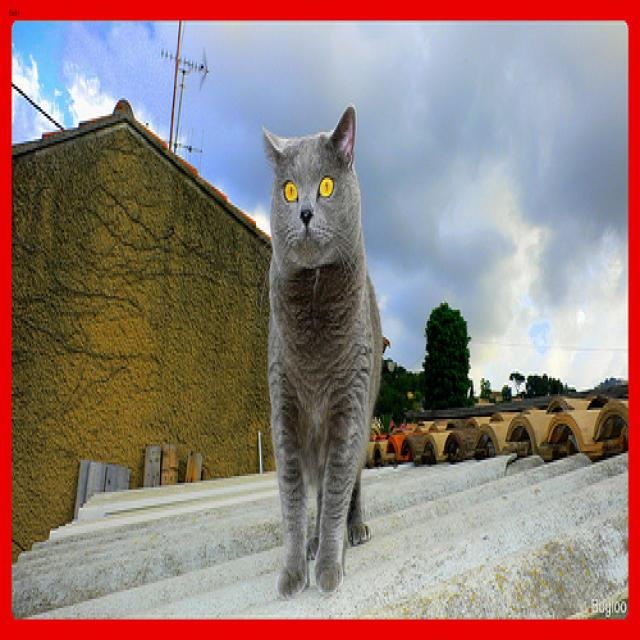cat: (261, 103, 353, 260)
